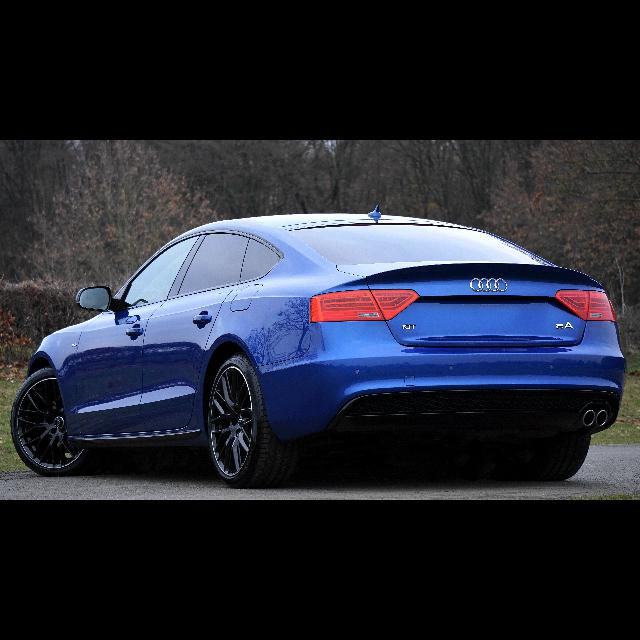cars: (6, 196, 632, 490)
